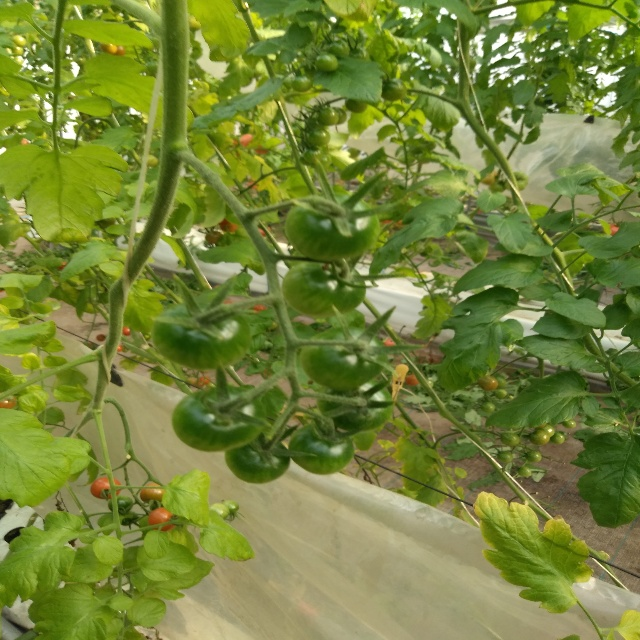l_fully_ripened: (89, 476, 122, 499)
l_green: (153, 301, 251, 370), (285, 191, 380, 262), (170, 386, 266, 452), (298, 327, 386, 390), (282, 259, 366, 319), (316, 377, 395, 433), (289, 423, 354, 475), (224, 436, 290, 484), (107, 495, 132, 514), (209, 504, 230, 520), (223, 501, 239, 514)
l_half_ripened: (149, 506, 178, 532), (139, 483, 164, 504)
